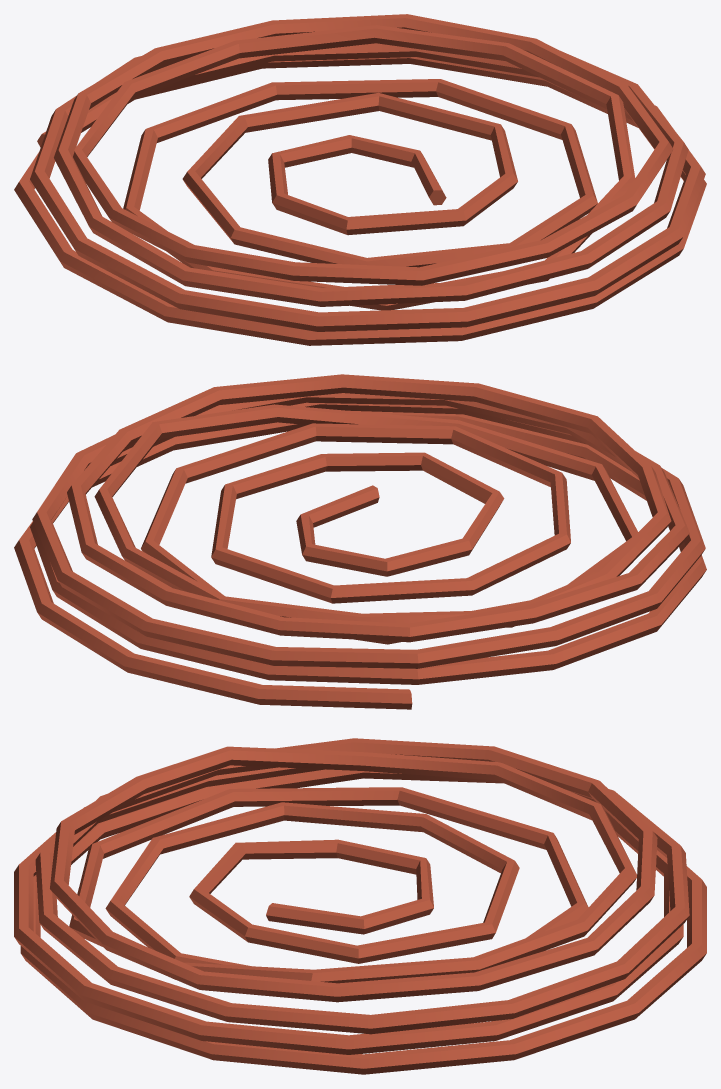
The model's file is Copper wire.fbx.
The picture shows the model from 3 angles, top to bottom: view 1: azimuth 30°, elevation 25°; view 2: azimuth 150°, elevation 25°; view 3: azimuth 270°, elevation 25°; orthographic projection.
Parts seen in each view (by area): view 1: copper_wire1; view 2: copper_wire1; view 3: copper_wire1.
Part boxes in pixels (box(x1,y1,x2,y2)): copper_wire1: box(14, 14, 706, 345); copper_wire1: box(14, 374, 706, 709); copper_wire1: box(14, 738, 706, 1074).
Size of the model in its own units: 1.33 by 0.1458 by 1.31.
